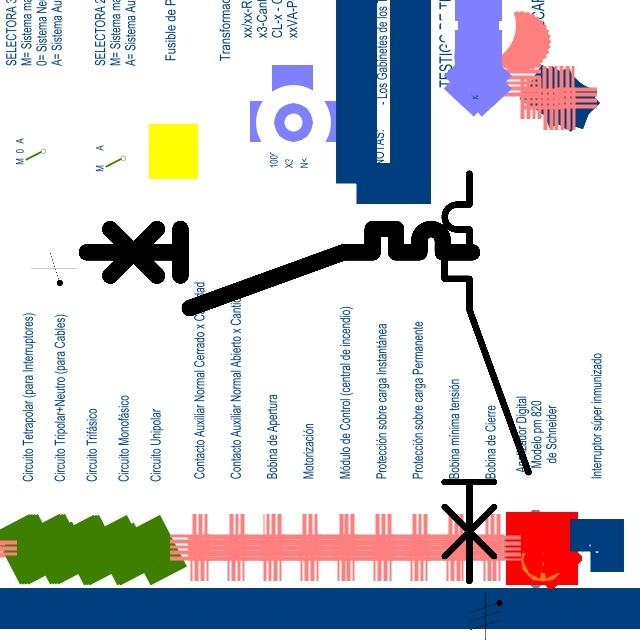interruptor_termomagnetico: (434, 163, 539, 591), (76, 219, 481, 318)
